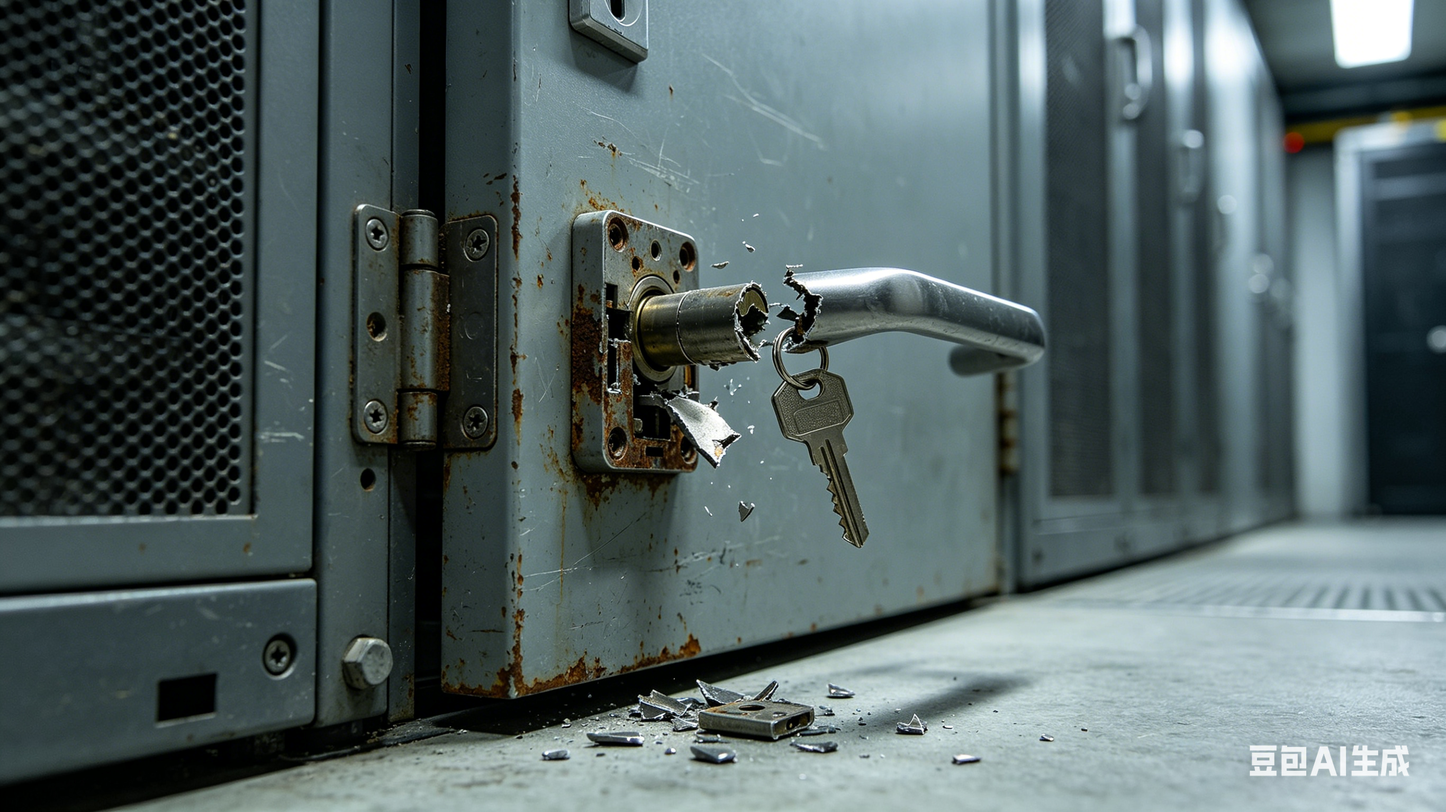BadLock: (592, 270, 873, 365)
